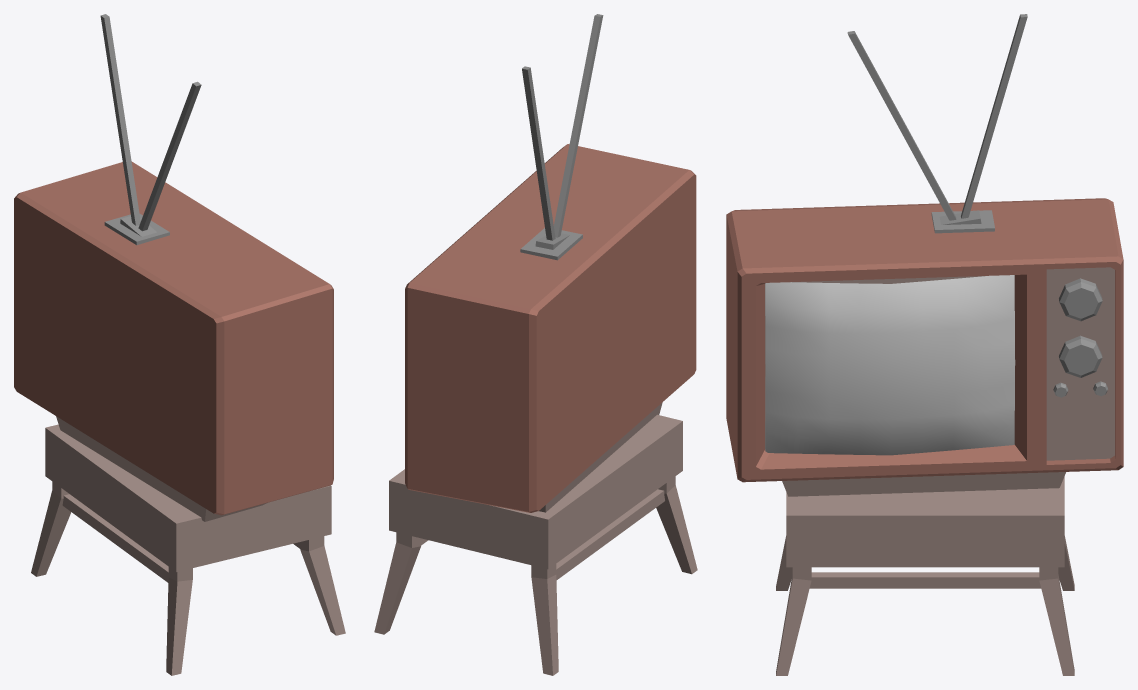
3 renders of one model, left to right at view 1: azimuth 30°, elevation 25°; view 2: azimuth 150°, elevation 25°; view 3: azimuth 270°, elevation 25°, orthographic. The views are drawn at different scales.
Parts seen in each view (by area): view 1: TV; view 2: TV; view 3: TV.
Boxes of the visible parts, box(x1,y1,x2,y2) form: TV: box(14, 14, 345, 675); TV: box(374, 14, 697, 675); TV: box(726, 14, 1123, 675).
Bounding box in the file's own units: 70.93 × 218 × 132.
